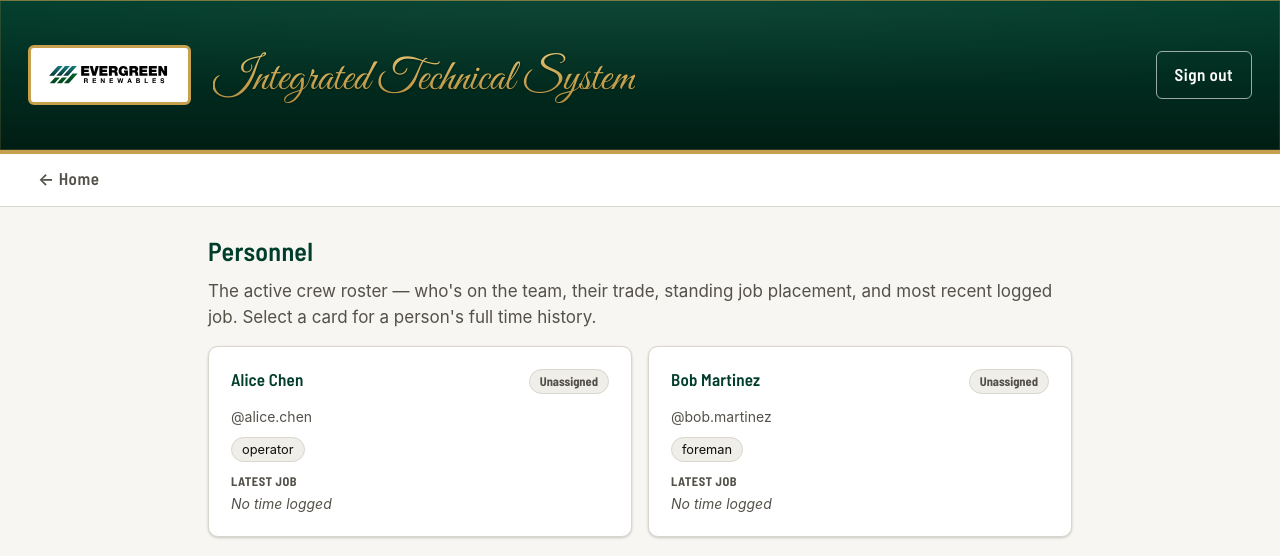
Test: FieldOpsPersonnel — list view › clicking a row opens detail view
Click the button with class "dash-card--click" that starts with "Alice Chen" at (267,379), box [208,346,632,537]
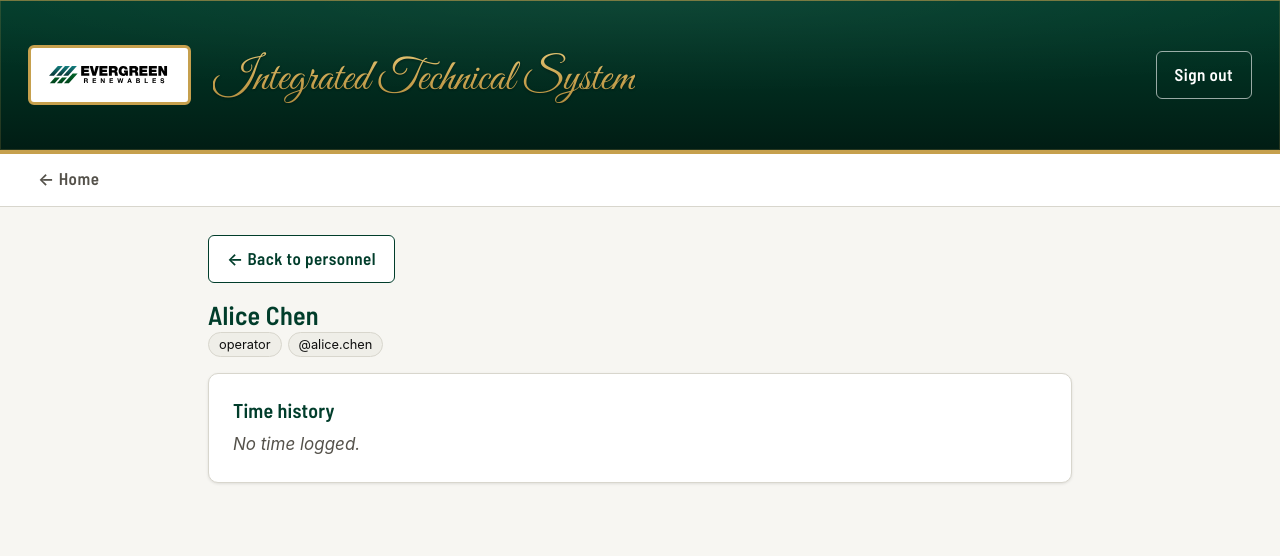
expect the button "← Back to personnel" is shown: met, box [208,235,395,283]
expect the heading "Alice Chen" is shown: met, box [208,299,319,330]
